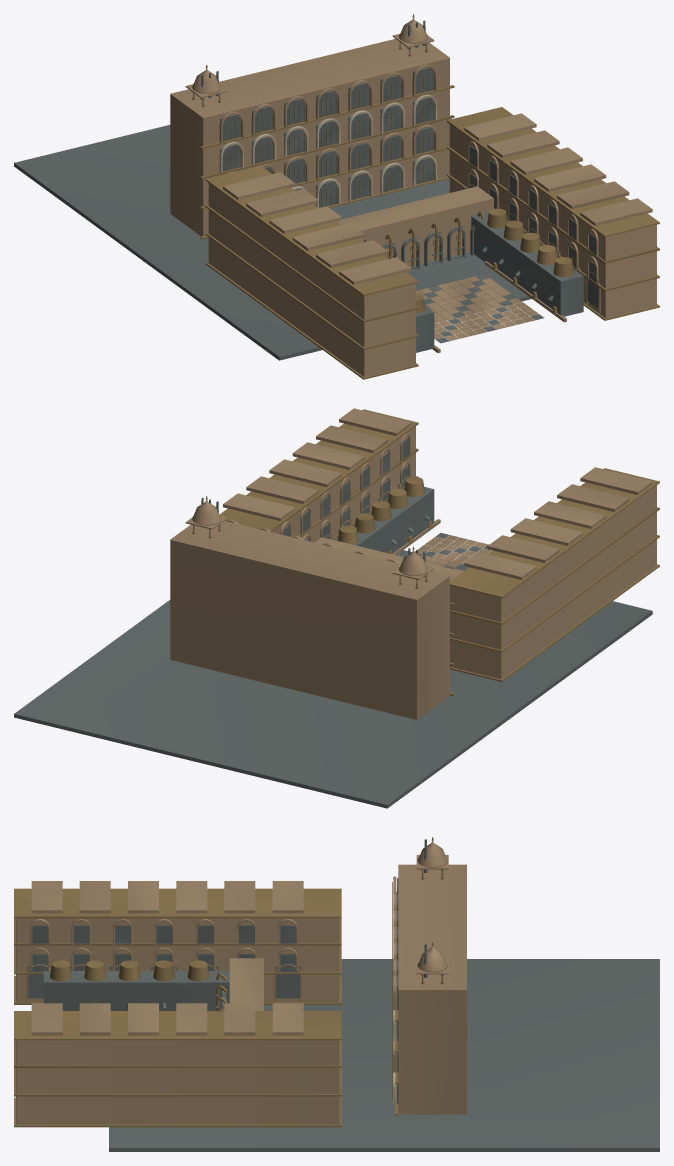
The model's file is arena-50.glb.
3 renders of one model, top to bottom at view 1: azimuth 30°, elevation 25°; view 2: azimuth 150°, elevation 25°; view 3: azimuth 270°, elevation 25°, orthographic. The views are drawn at different scales.
Visible parts, largest first — view 1: correction-sand, correction-dark, correction-bronze, correction-plaster; view 2: correction-sand, correction-dark, correction-bronze; view 3: correction-sand, correction-dark, correction-bronze.
Boxes of the visible parts, box(x1,y1,x2,y2) form: correction-sand: box(170, 17, 656, 376); correction-dark: box(14, 20, 599, 360); correction-bronze: box(192, 14, 659, 379); correction-plaster: box(219, 94, 437, 207); correction-sand: box(170, 408, 656, 719); correction-dark: box(14, 438, 652, 808); correction-bronze: box(192, 409, 659, 695); correction-sand: box(16, 840, 466, 1124); correction-dark: box(27, 839, 659, 1151); correction-bronze: box(14, 837, 443, 1127).
Size of the model in its own units: 65 by 26.86 by 93.8.
